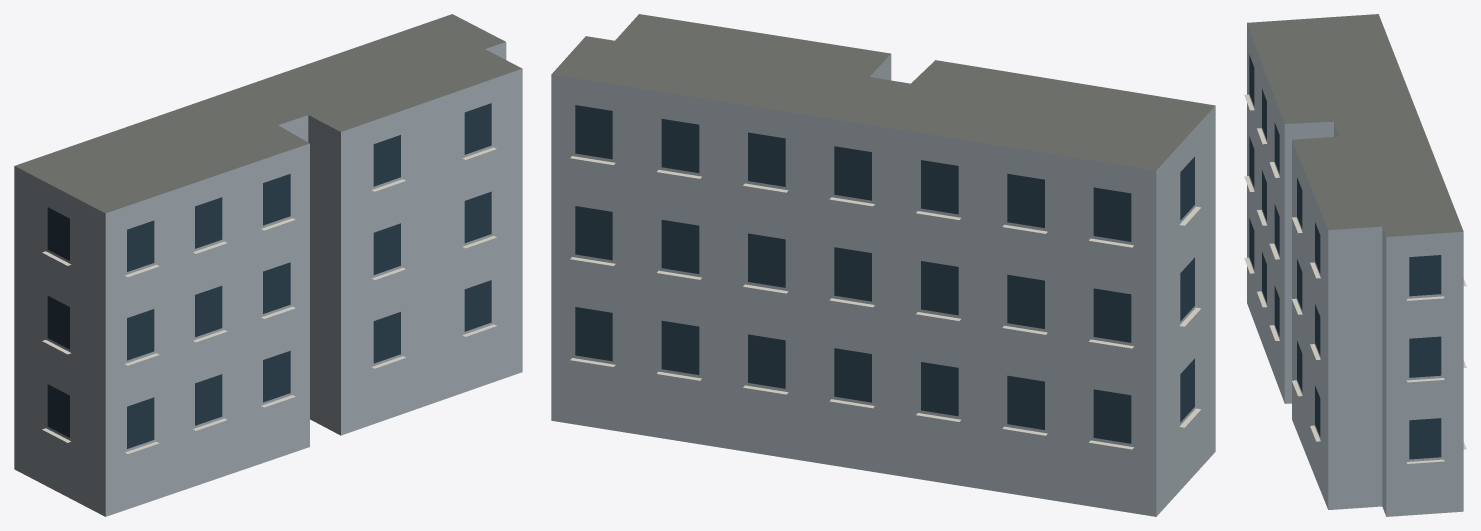
3 renders of one model, left to right at view 1: azimuth 30°, elevation 25°; view 2: azimuth 150°, elevation 25°; view 3: azimuth 270°, elevation 25°, orthographic. The views are drawn at different scales.
Visible parts, largest first — view 1: Footprint 0, Inferred window bays, Window sills; view 2: Footprint 0, Inferred window bays, Window sills; view 3: Footprint 0, Inferred window bays, Window sills.
Part boxes in pixels (x1,y1,x2,y2): Footprint 0: [14, 14, 522, 516]; Inferred window bays: [47, 103, 491, 448]; Window sills: [42, 147, 496, 453]; Footprint 0: [551, 14, 1215, 516]; Inferred window bays: [575, 105, 1194, 443]; Window sills: [570, 156, 1200, 449]; Footprint 0: [1247, 14, 1463, 516]; Inferred window bays: [1249, 55, 1441, 459]; Window sills: [1244, 94, 1466, 463].
Bounding box in the file's own units: 20.25 × 11.78 × 8.5.
